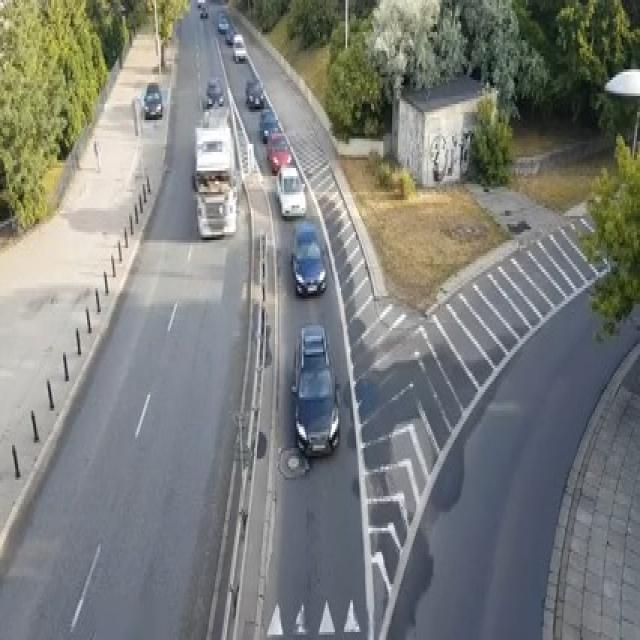bus: (191, 112, 237, 237)
car: (290, 323, 339, 456), (290, 219, 326, 296), (275, 165, 306, 219), (266, 131, 291, 173), (258, 107, 280, 141), (143, 80, 162, 117), (245, 78, 264, 110), (206, 75, 224, 106), (232, 32, 246, 61), (224, 24, 236, 43), (218, 13, 228, 32), (198, 5, 208, 19), (197, 0, 204, 8)
